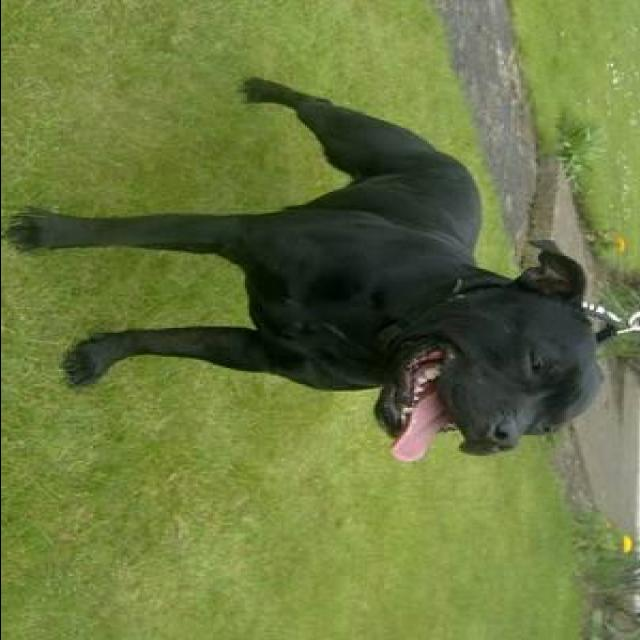staffordshire_bullterrier: (11, 75, 602, 462)
